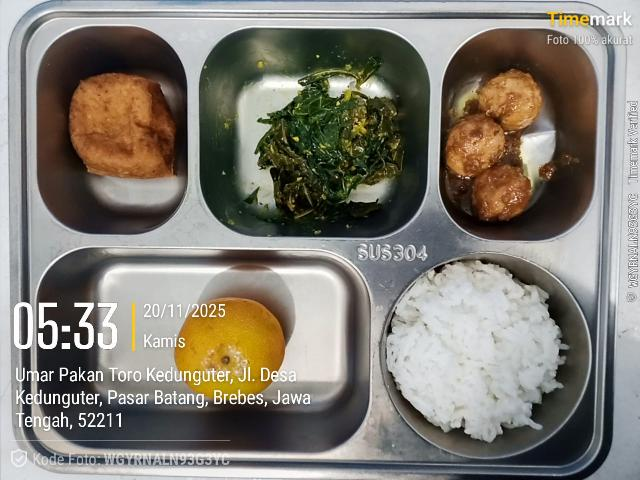bakso: (440, 69, 559, 221)
buah: (174, 298, 285, 398)
nasi: (386, 261, 568, 442)
sayur: (254, 57, 403, 219)
tahu: (69, 73, 176, 179)
